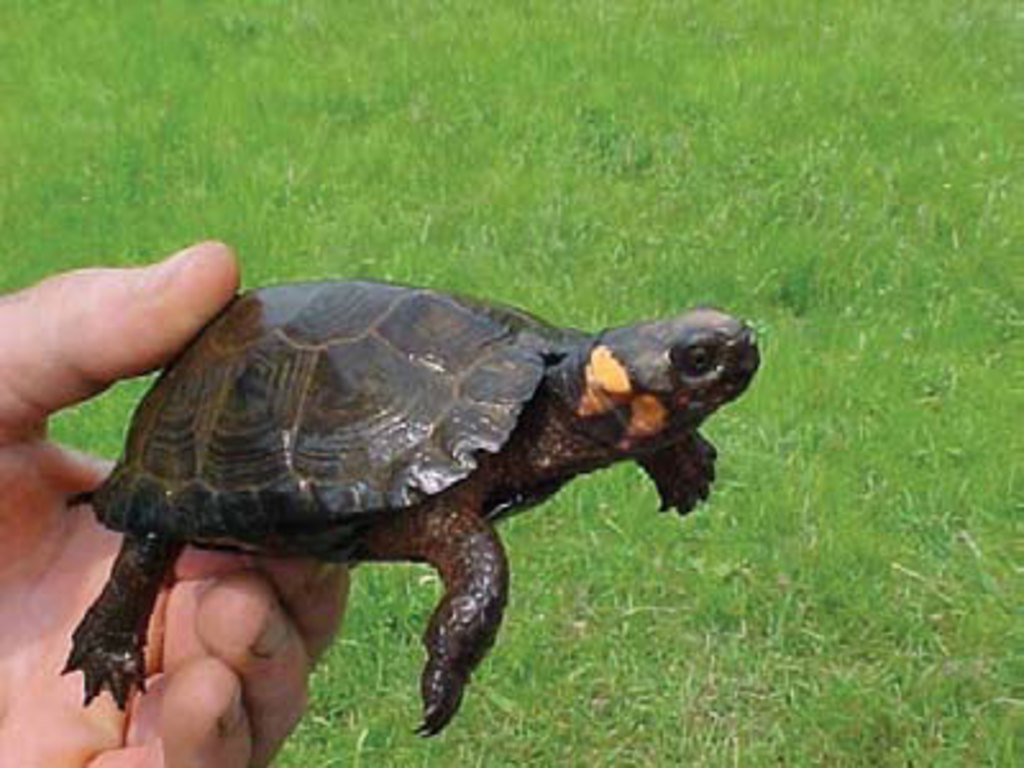Sea turtles: (61, 271, 762, 744)
